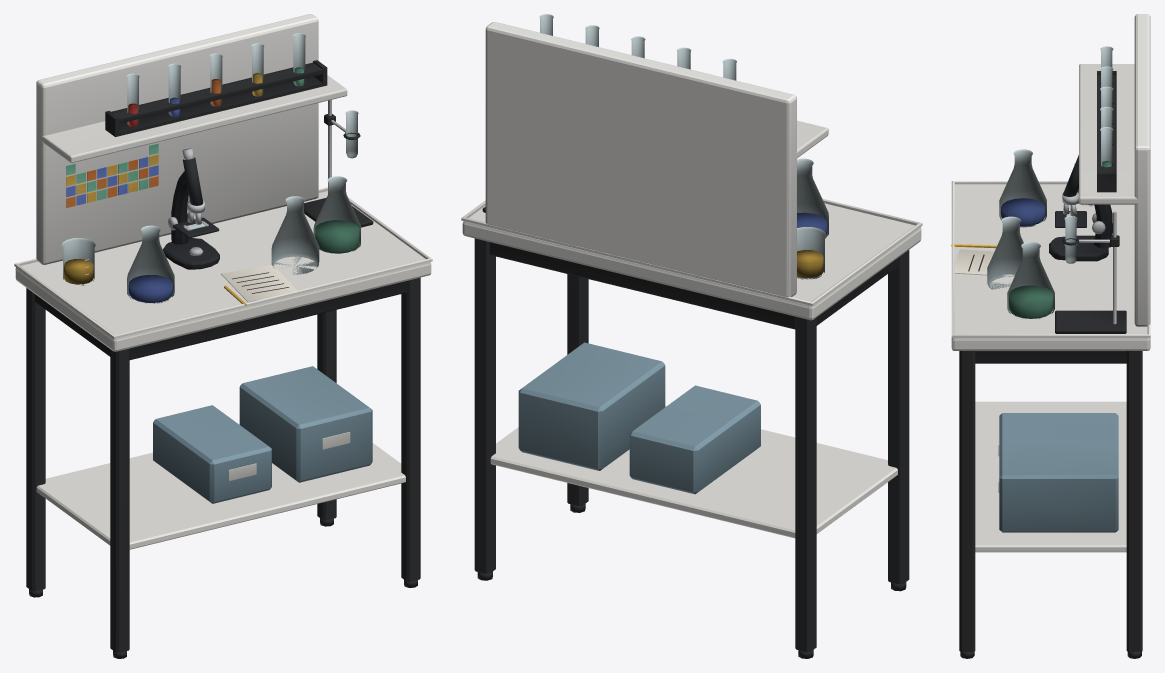
Rendered from chemistrySet.glb.
3 views of the same model, side by side, from view 1: azimuth 30°, elevation 25°; view 2: azimuth 150°, elevation 25°; view 3: azimuth 270°, elevation 25° (orthographic). The views are drawn at different scales.
Visible parts, largest first — view 1: body; view 2: body; view 3: body.
Part boxes in pixels (x1,y1,x2,y2): body: [14, 14, 432, 658]; body: [461, 14, 922, 658]; body: [951, 14, 1150, 658].
Bounding box in the file's own units: 0.92 × 1.4 × 0.5003.
